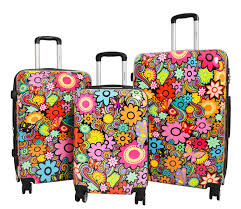suitcase: (131, 11, 231, 201), (10, 36, 92, 196), (69, 50, 150, 204)
